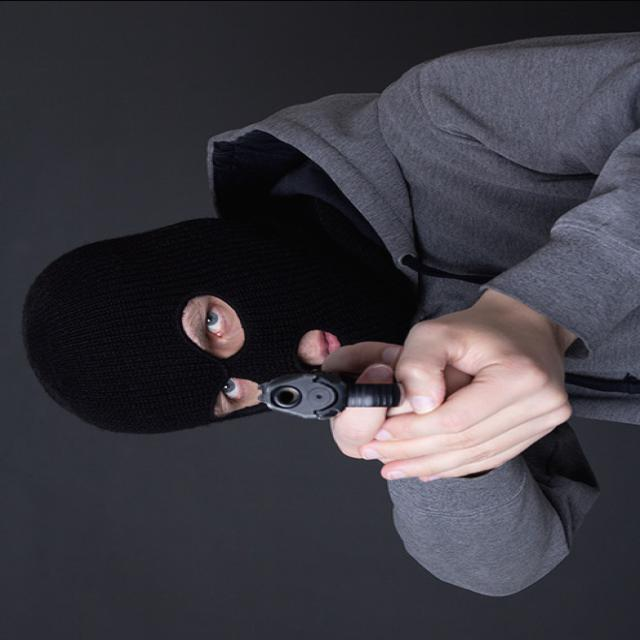handgun: (252, 372, 398, 422)
